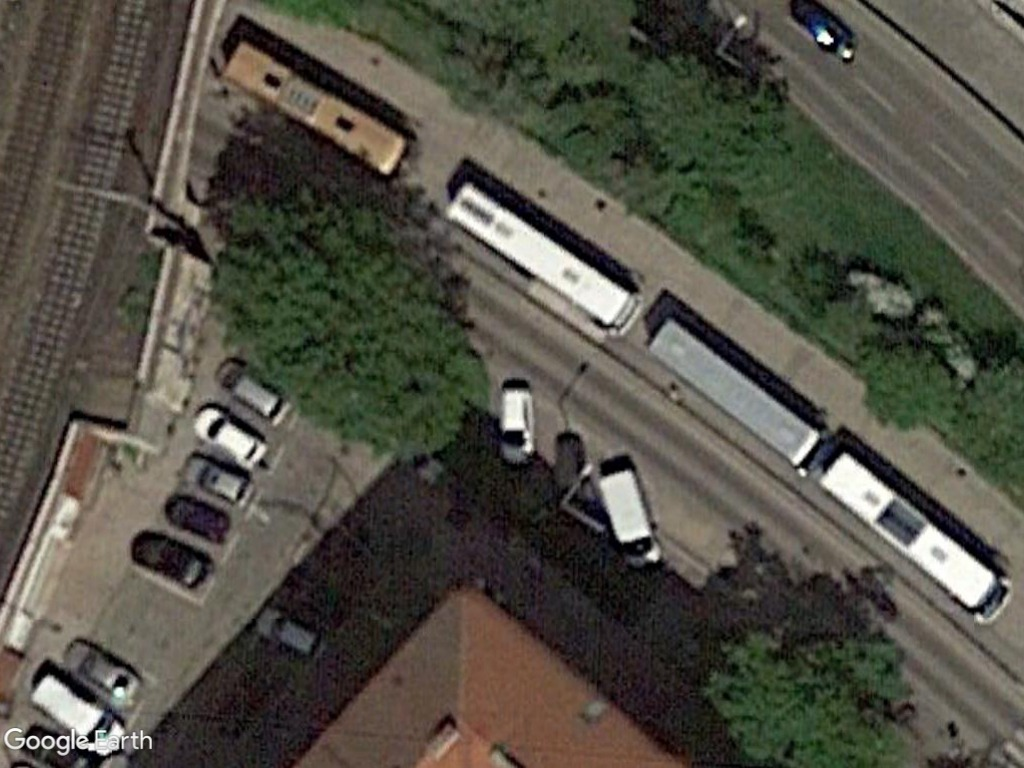bus: (813, 444, 1007, 632), (443, 174, 644, 339), (641, 309, 825, 481), (217, 35, 413, 184)
car: (61, 640, 144, 706), (214, 356, 291, 427), (247, 603, 333, 665), (189, 404, 270, 467), (177, 450, 258, 510), (131, 531, 211, 587), (496, 380, 539, 470)
van: (598, 467, 664, 570)
